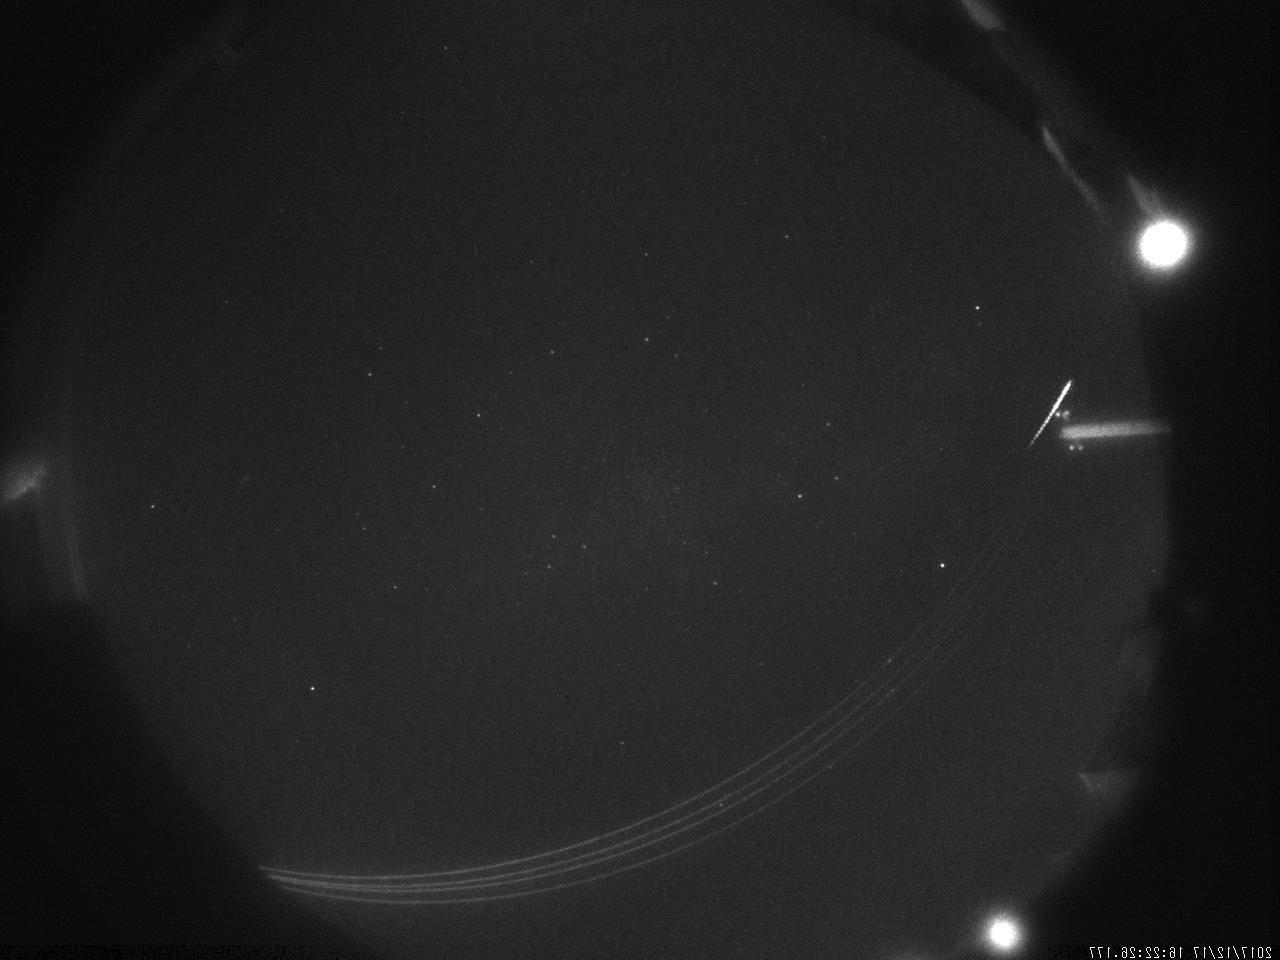meteor: (1002, 373, 1078, 453)
